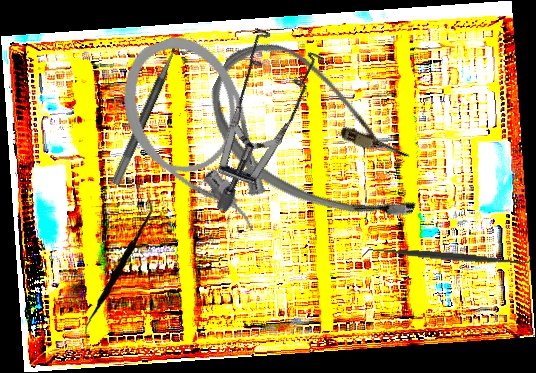Cannula: (185, 24, 454, 248), (104, 21, 289, 259)
Fixation Ring: (110, 36, 197, 192)
Spatula Surgical: (73, 197, 162, 340), (361, 239, 533, 274)
Speculum: (144, 5, 364, 216)
